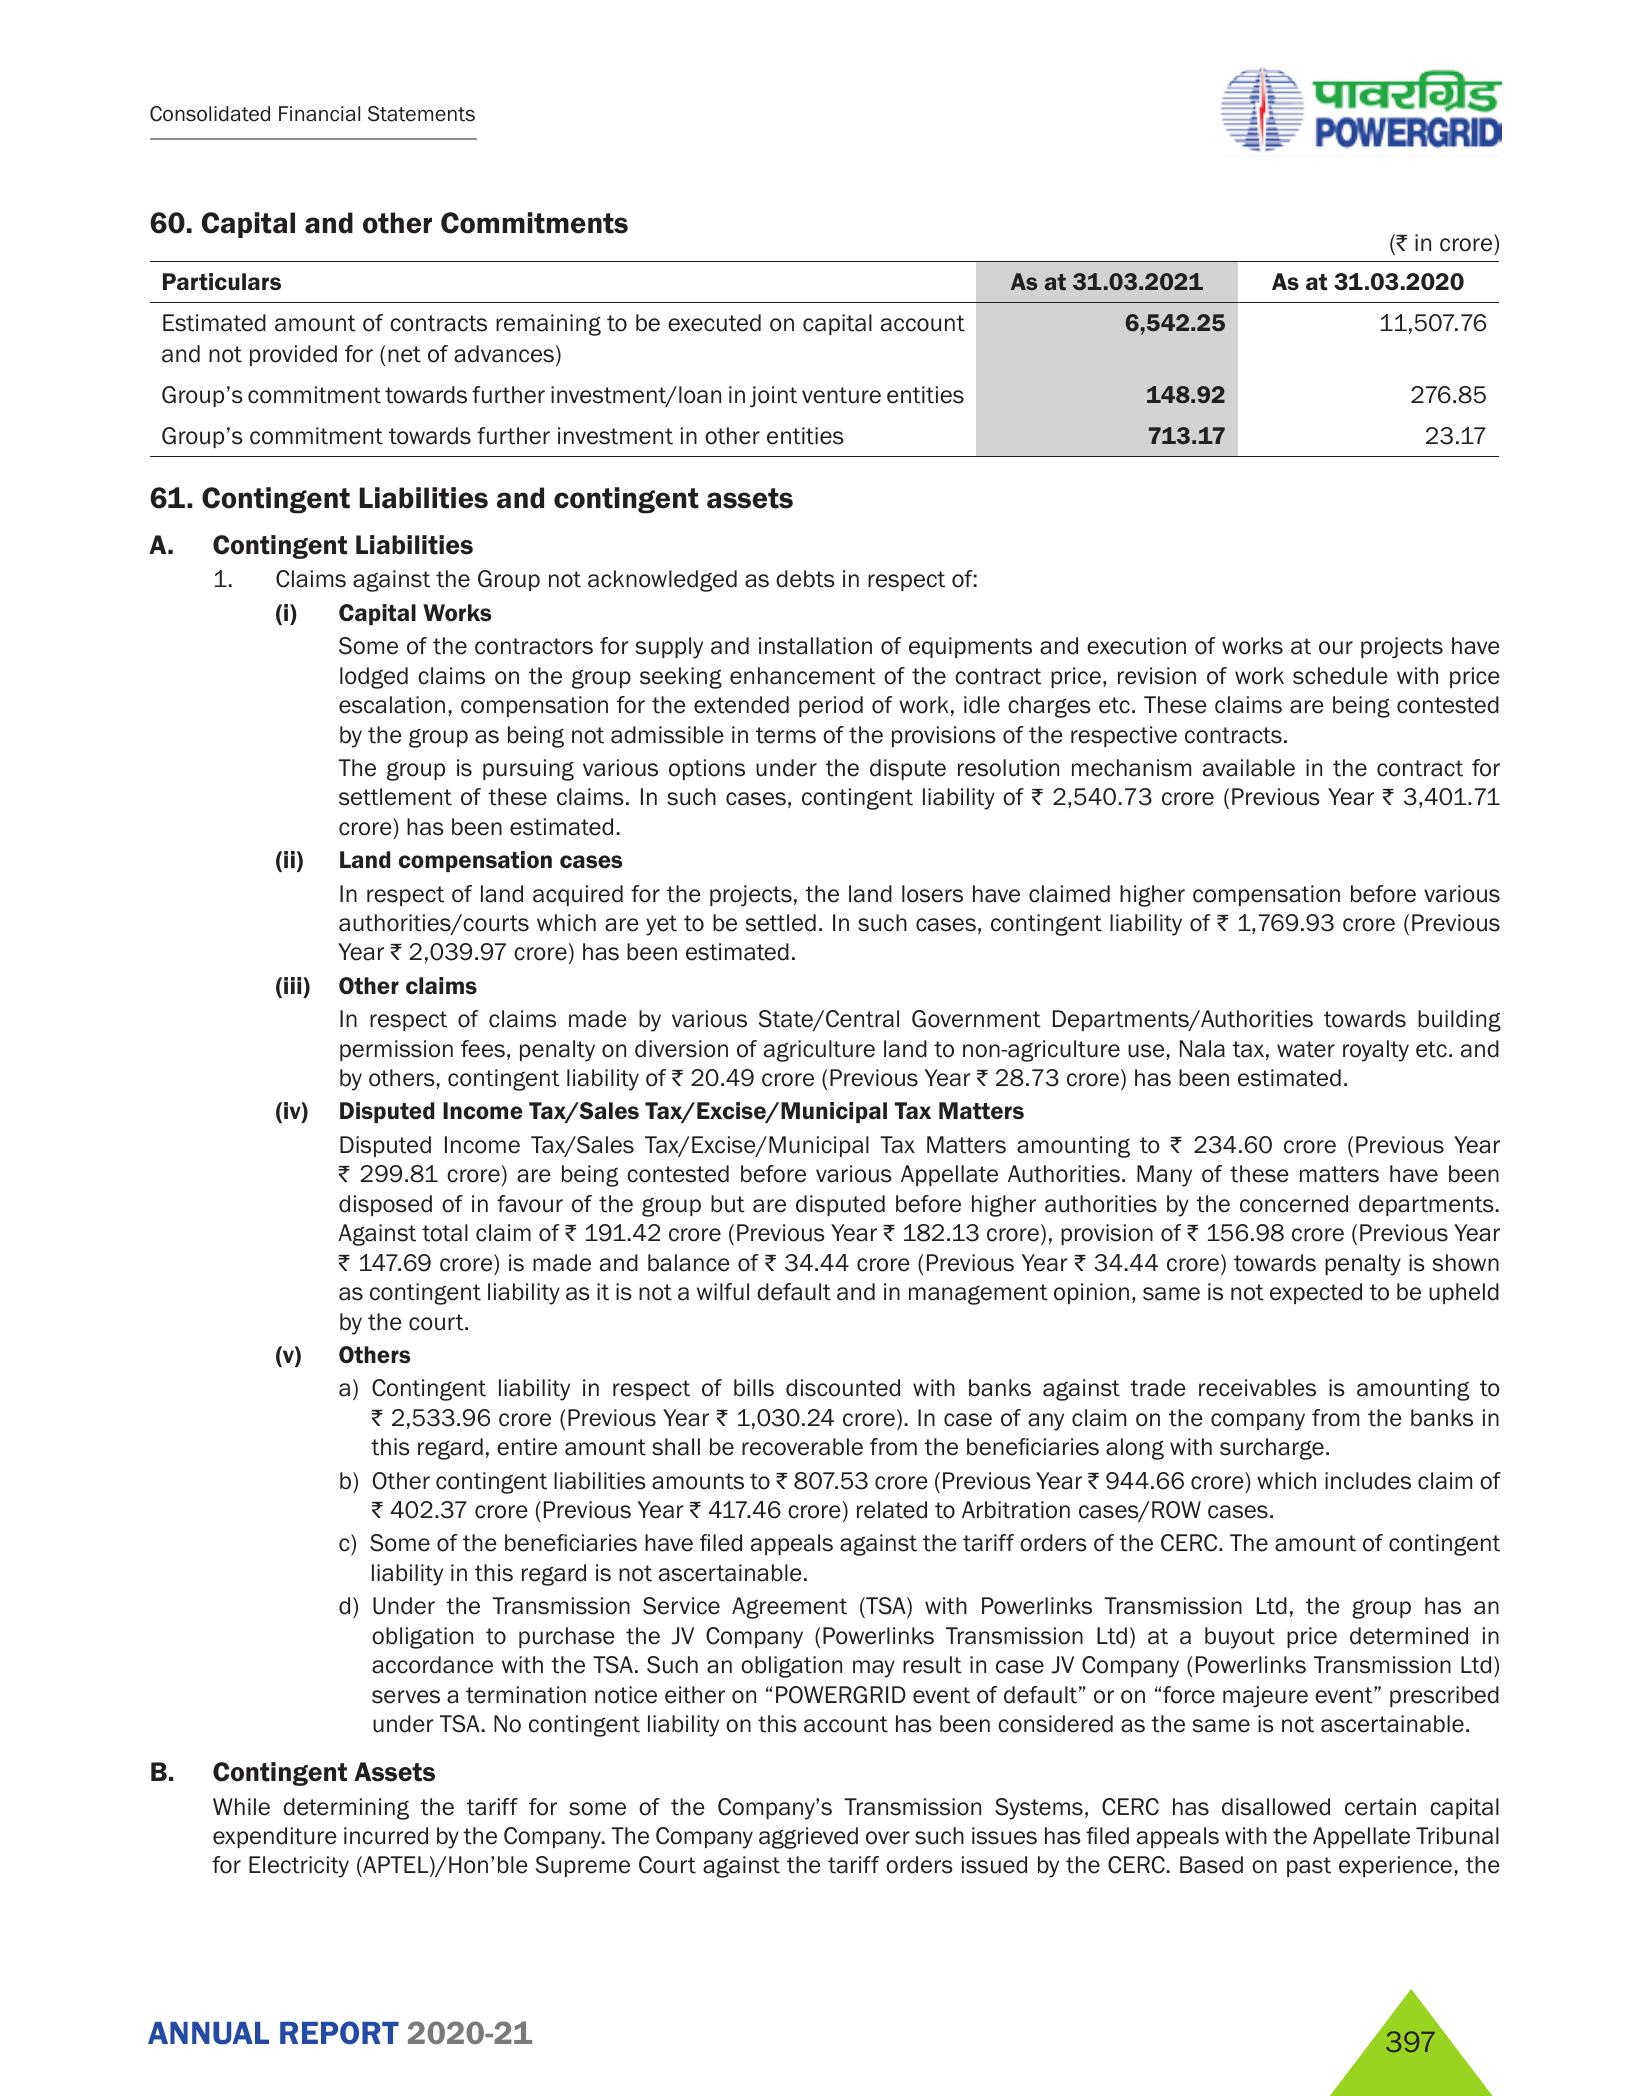Footer: (0, 1962, 1650, 2096)
Header: (0, 0, 1650, 168)
Table: (129, 257, 1516, 466)
